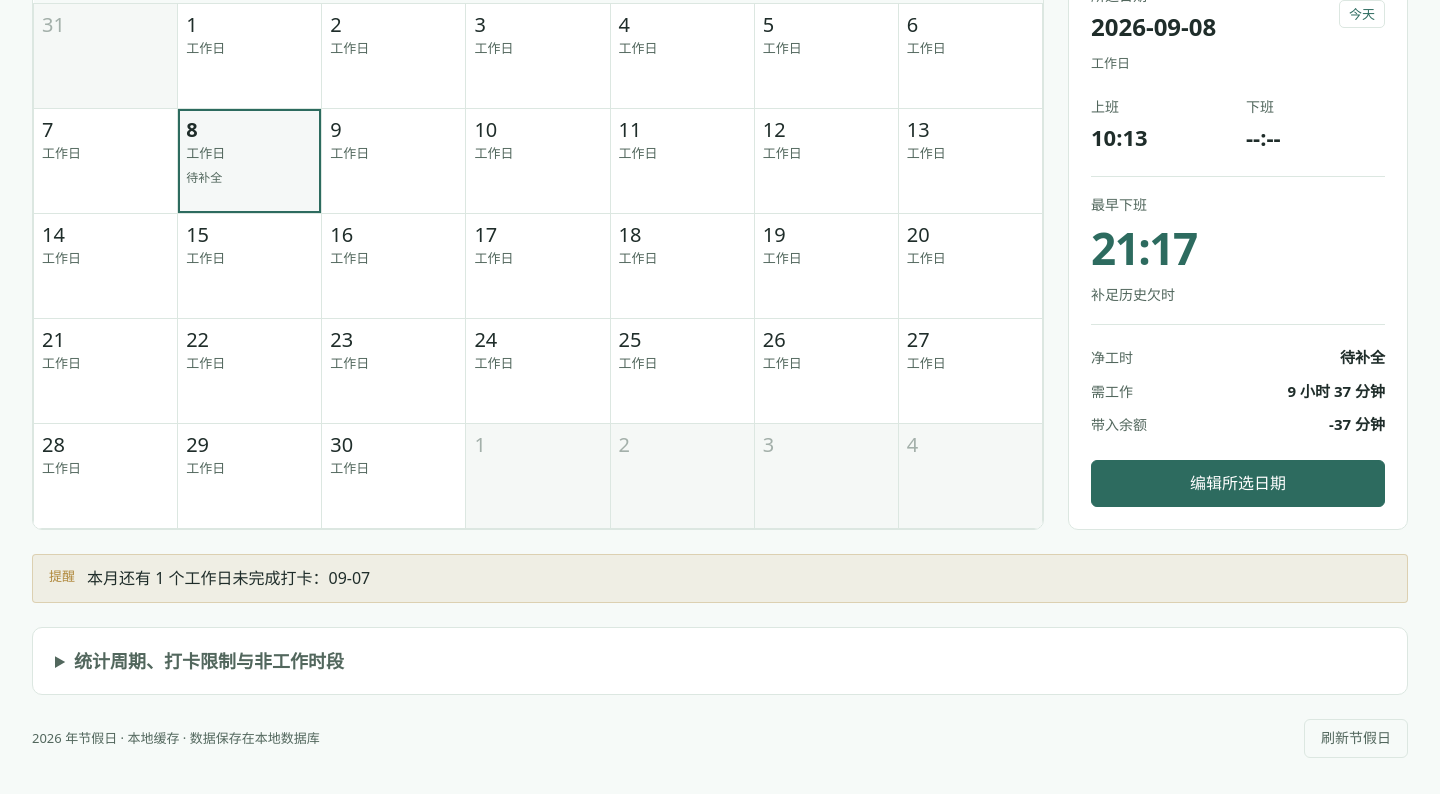
it: preserves edited limits and saved settings when saving fails
(page scrolled)
Click the heading "统计周期、打卡限制与非工作时段" at coordinates (209, 661), box left=74, top=649, right=344, bottom=673
(page scrolled)
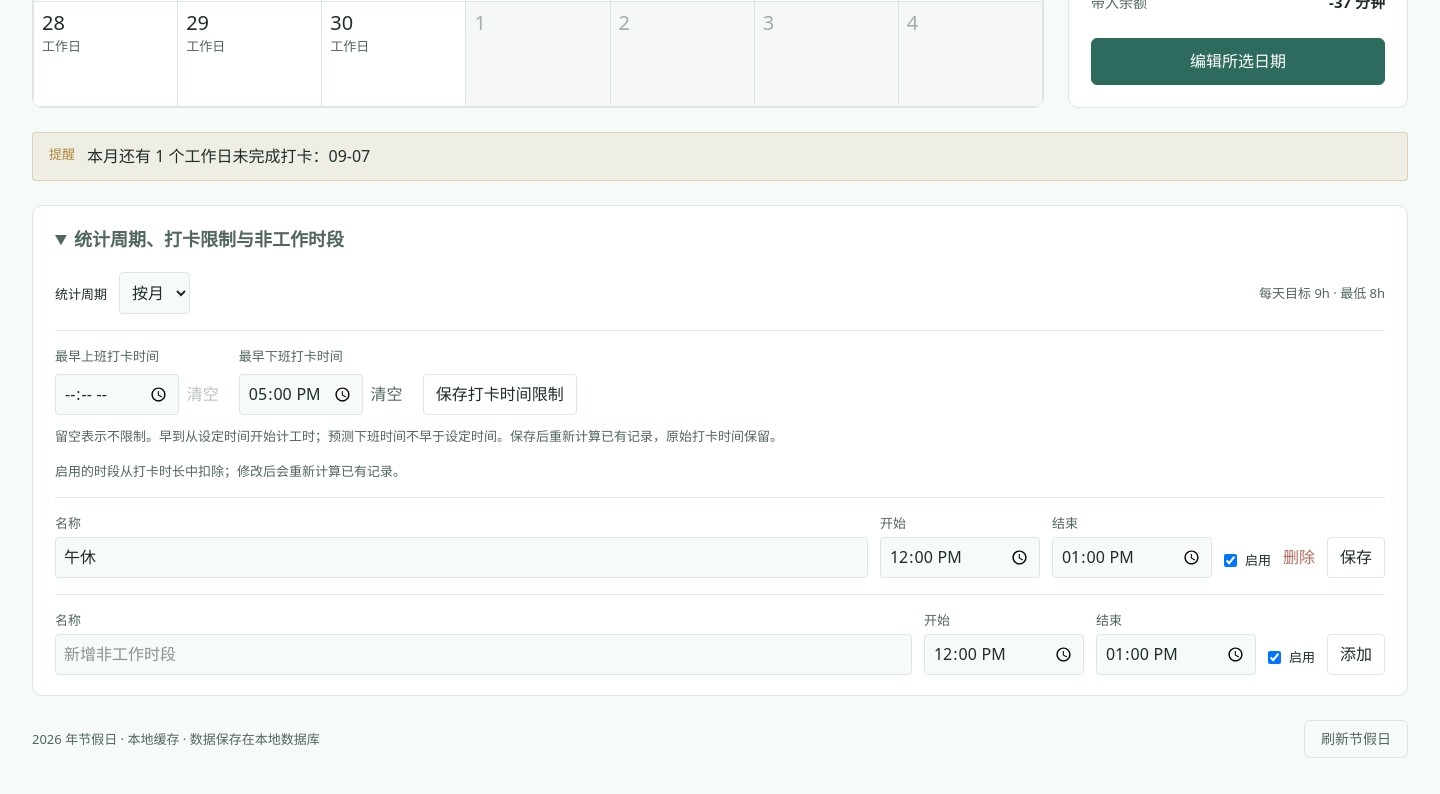
Replace the text in the time field labelled "最早下班打卡时间" with "18:00" at coordinates (301, 395), box left=239, top=374, right=363, bottom=415
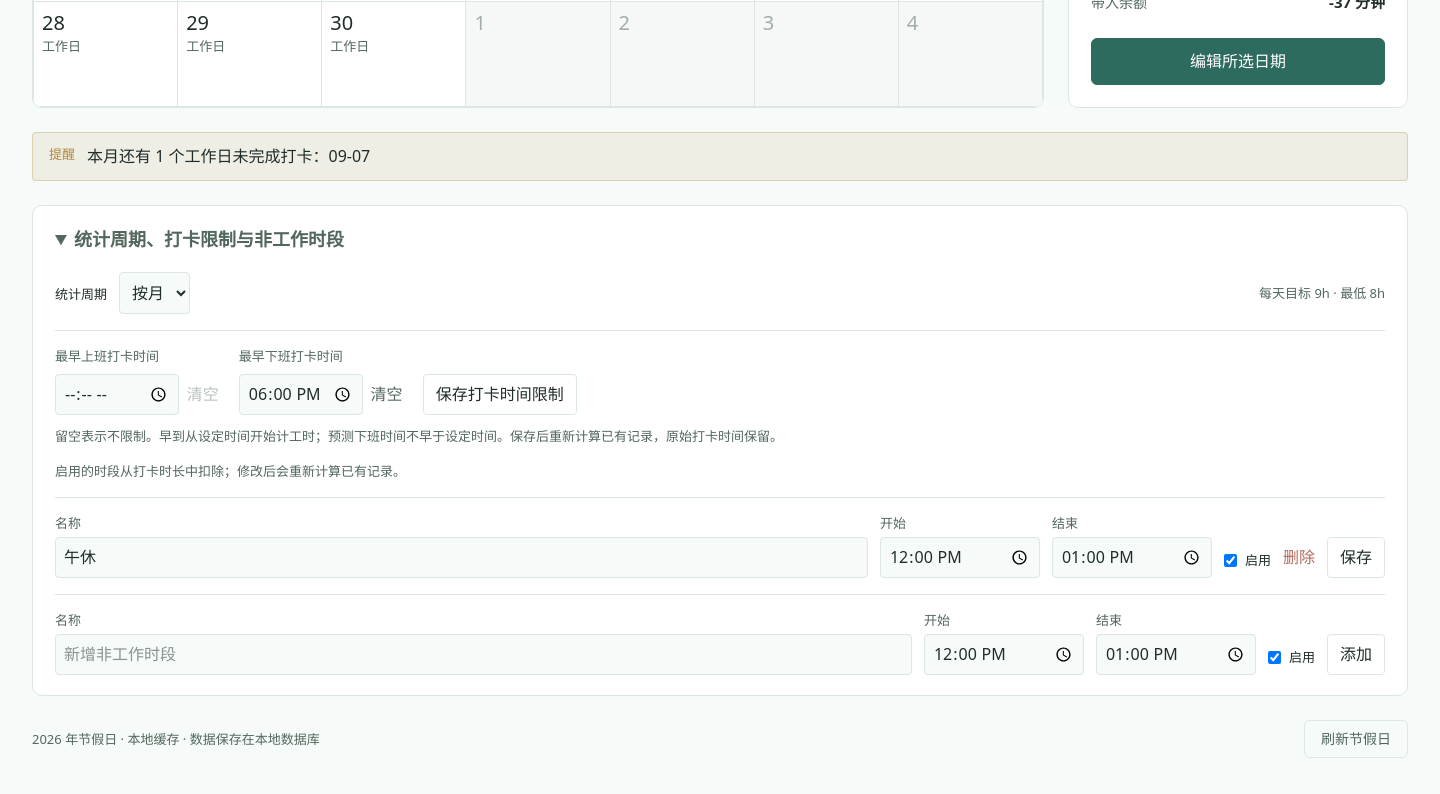
Click the button "保存打卡时间限制" at coordinates (500, 395), box left=423, top=374, right=577, bottom=415
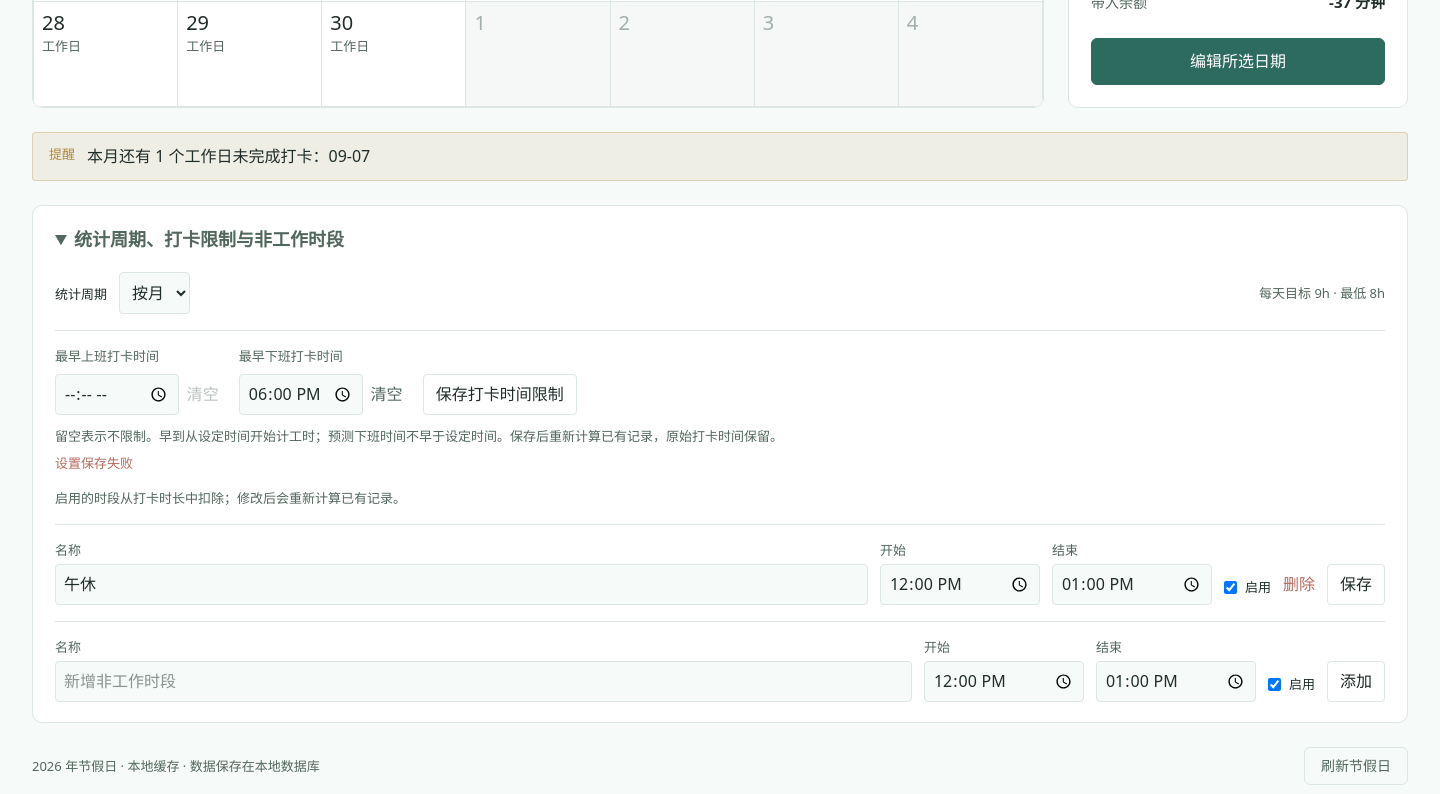
Check: the button "保存打卡时间限制" is enabled, box left=423, top=374, right=577, bottom=415
Check: the message reads "设置保存失败", box left=55, top=454, right=133, bottom=472
